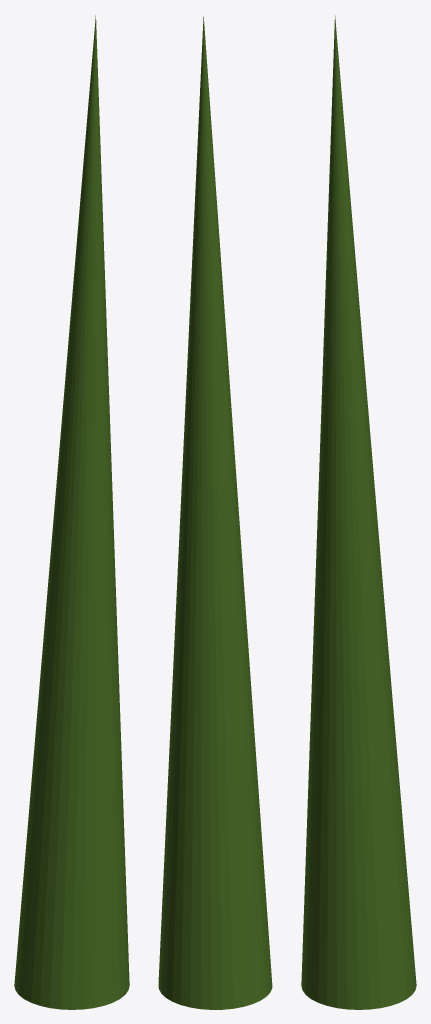
File: grass.fbx
3 views of the same model, side by side, from view 1: azimuth 90°, elevation 25°; view 2: azimuth 210°, elevation 25°; view 3: azimuth 270°, elevation 25° (orthographic).
Parts seen in each view (by area): view 1: Cone; view 2: Cone; view 3: Cone.
Boxes of the visible parts, bbox=[...] form: Cone: bbox=[14, 15, 129, 1009]; Cone: bbox=[158, 17, 272, 1009]; Cone: bbox=[301, 15, 416, 1009].
Bounding box in the file's own units: 10.85 × 101 × 10.85.
